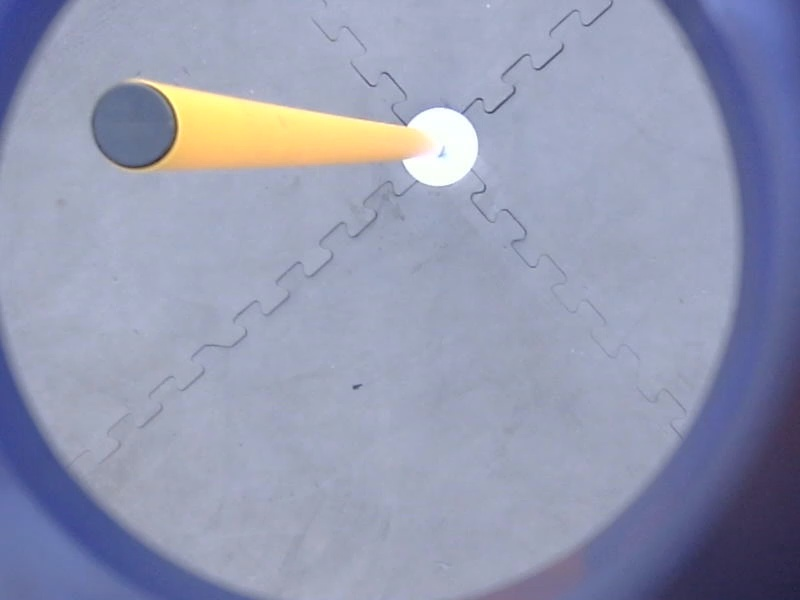tip: (82, 74, 182, 174)
